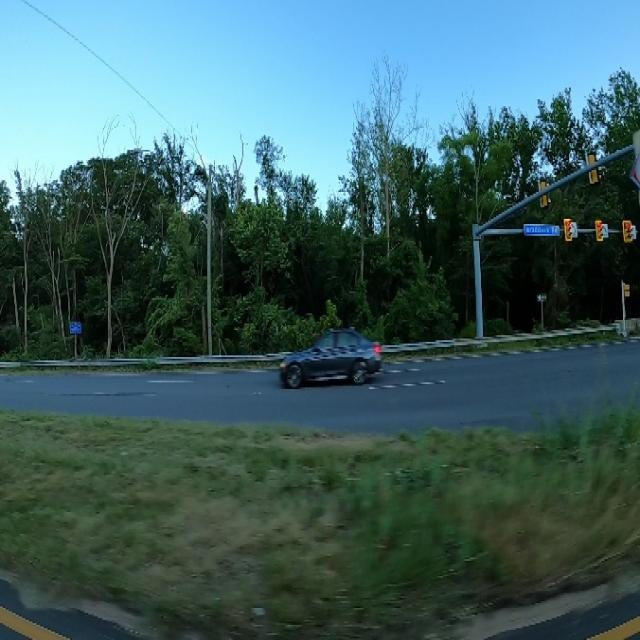cars: (279, 321, 384, 386)
